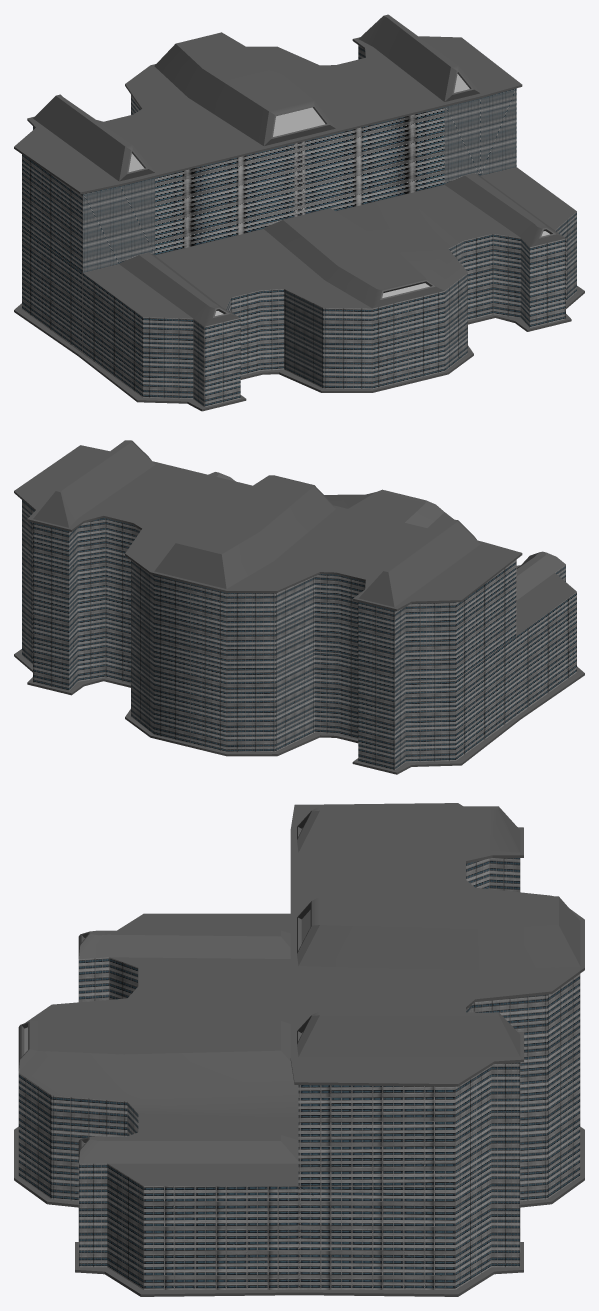
Rendered from building_gov.fbx.
3 views of the same model, one above another, from view 1: azimuth 30°, elevation 25°; view 2: azimuth 150°, elevation 25°; view 3: azimuth 270°, elevation 25° (orthographic). The views are drawn at different scales.
Parts seen in each view (by area): view 1: polySurface86; view 2: polySurface86; view 3: polySurface86.
Boxes of the visible parts, <box> form: polySurface86: <box>14,14,584,411</box>; polySurface86: <box>14,440,584,774</box>; polySurface86: <box>14,803,584,1296</box>.
Bounding box in the file's own units: 208 × 84.64 × 178.
Materials: 3 (1 with a texture image).
